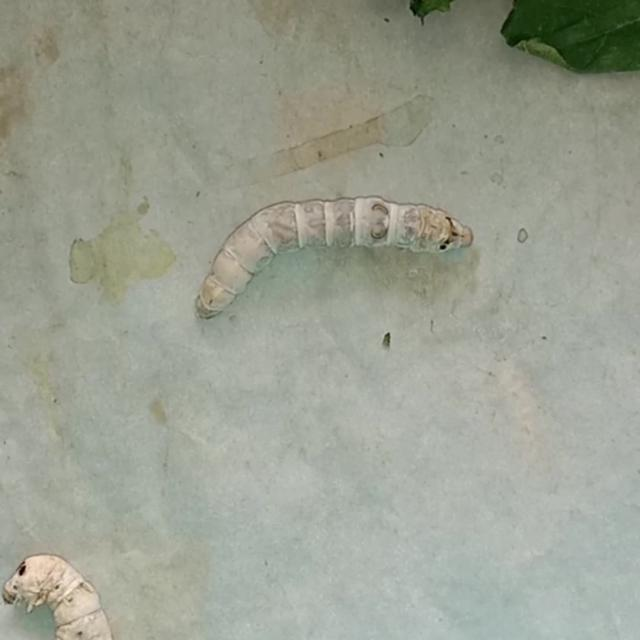Grasserie: (166, 153, 507, 340)
